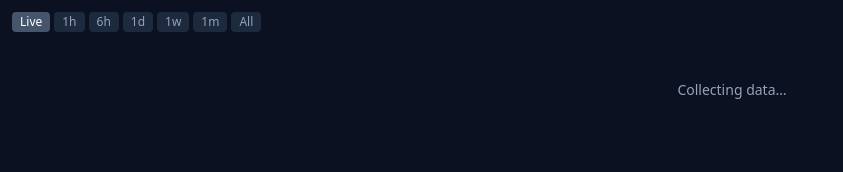
Scenario: PnlChart ranges › Live is pre-filled from the last 15 minutes of stored history; other ranges load their own
Check: the text "Collecting data…" is shown, box x1=677 y1=80 x2=787 y2=99
Click the tab "1w".
click(173, 22)  # box x1=157 y1=12 x2=189 y2=32
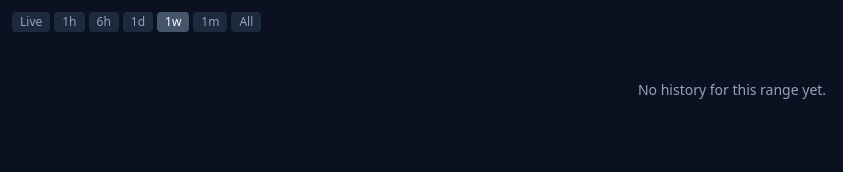
Check: the text "No history for this range yet." is shown, box x1=638 y1=80 x2=826 y2=99
